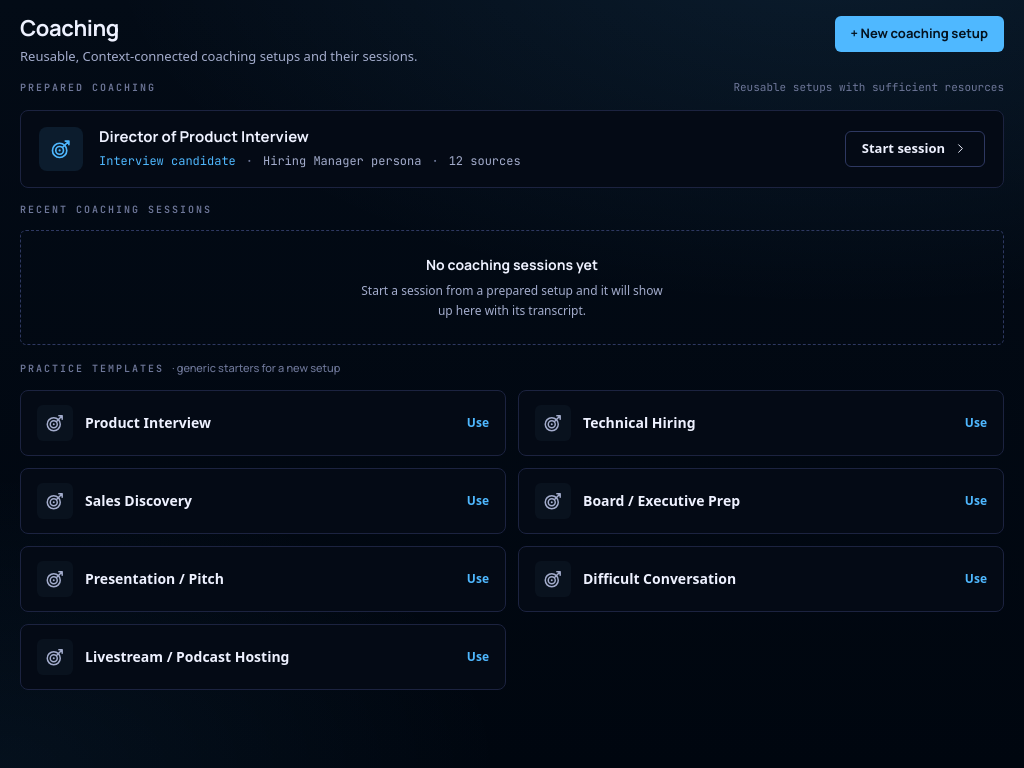
CoachingView › starting from a practice template opens the setup flow, prefilled
Click the button "Product Interview Use". click: point(55, 423)
box: [20, 390, 506, 456]
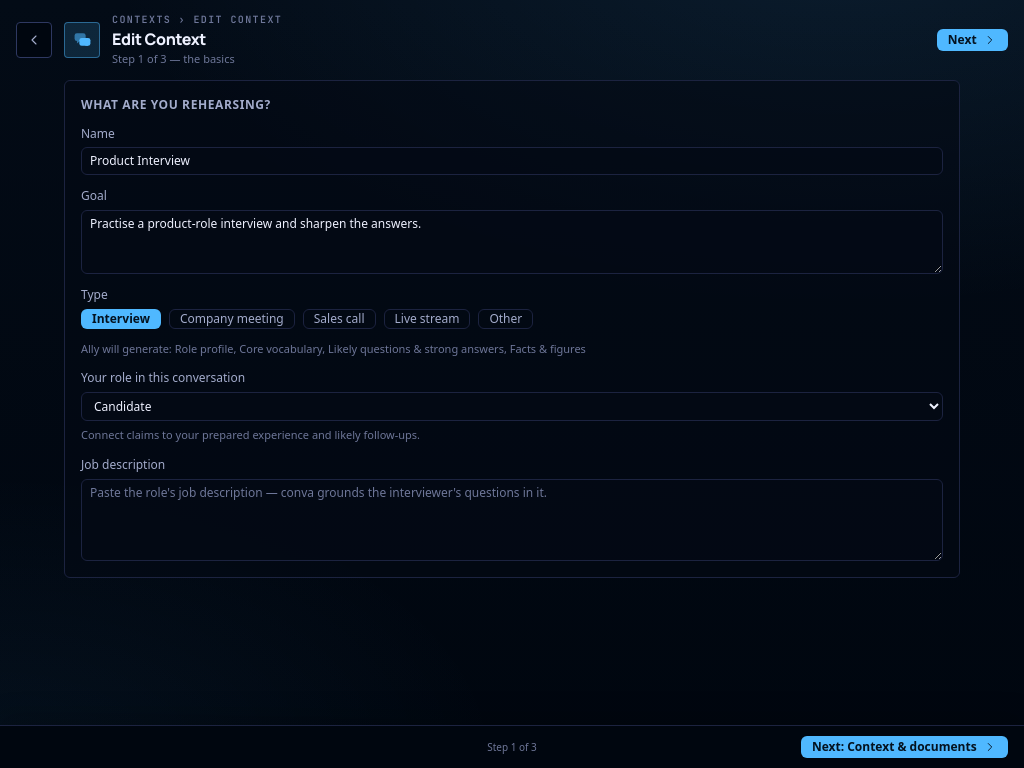
Expected: the field showing "Product Interview" is shown, [81, 147, 943, 175]
